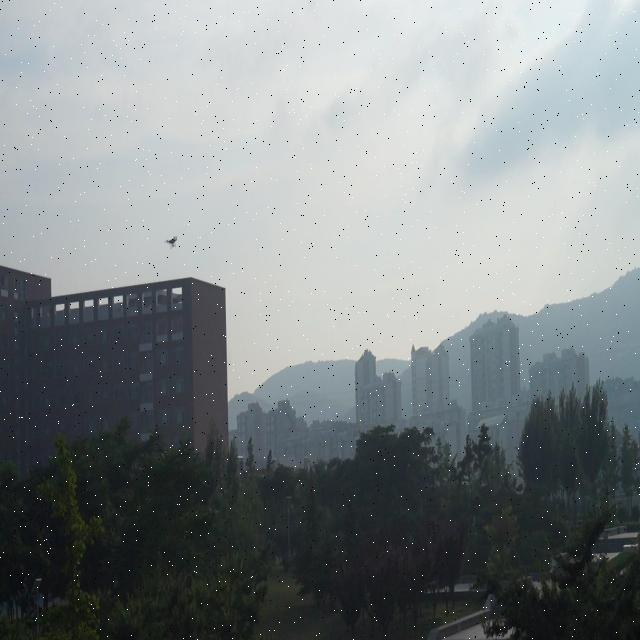UAV: (164, 236, 178, 249)
